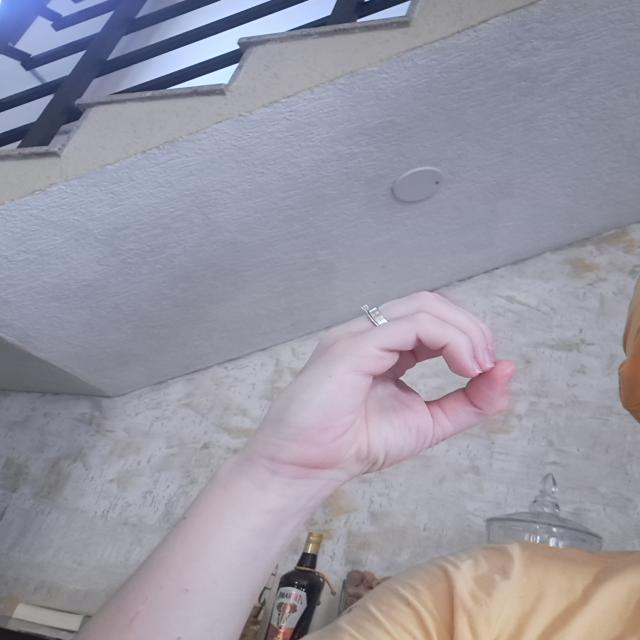O: (258, 290, 518, 484)
